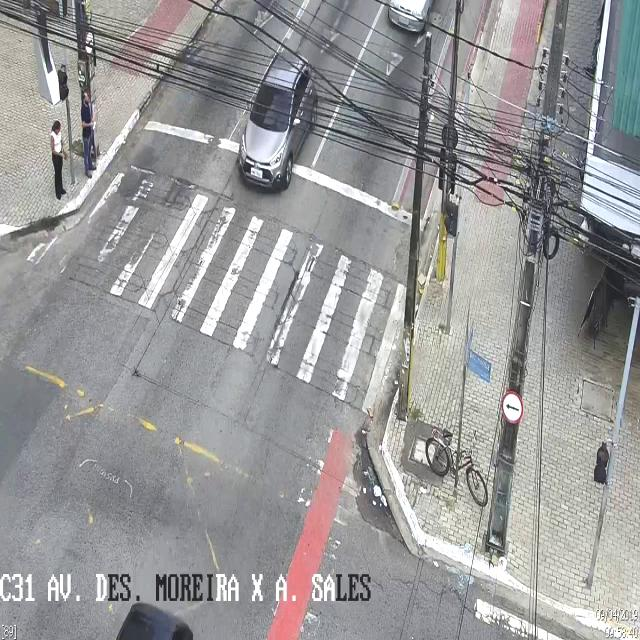Car: (238, 49, 318, 194)
